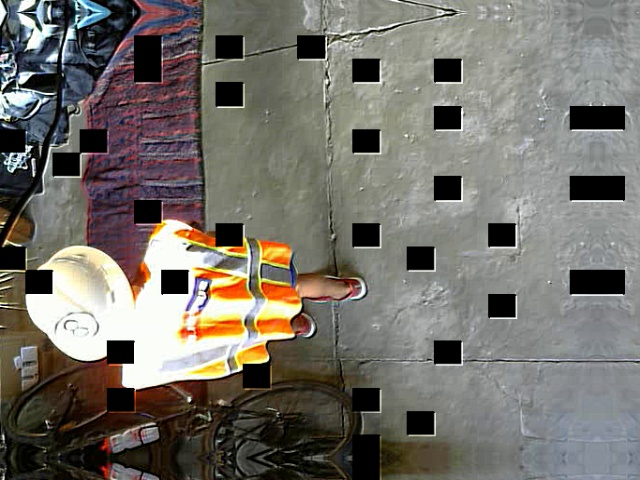eight: (54, 311, 98, 346)
